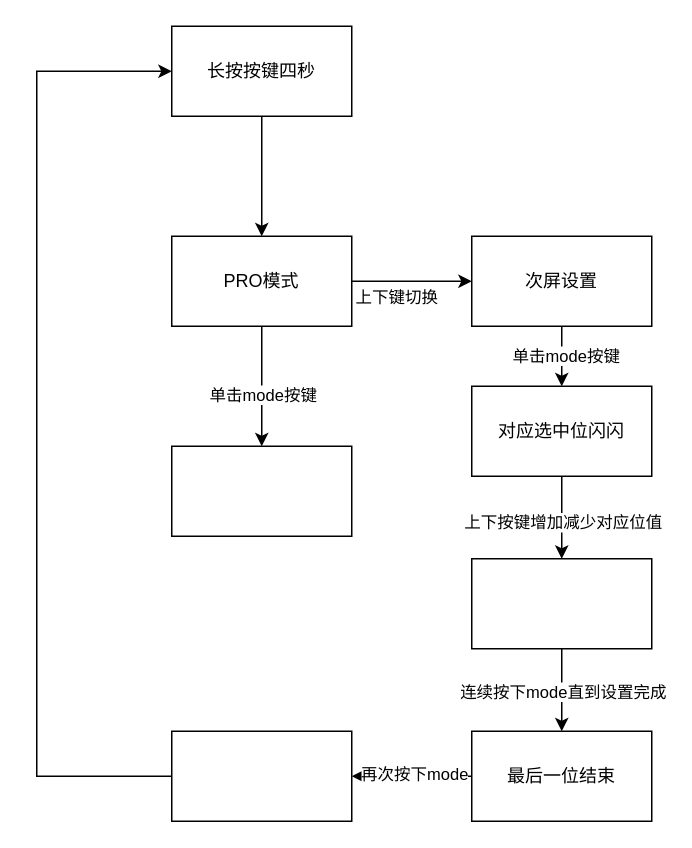
The diagram is 692 pixels wide and 848 high, and some of its shapes have lost their labels. Here are the shapes that lost their labels. From the top down, the centre of each, then its label:
At pixel 261 490: "切换下一个设置页".
At pixel 561 603: "改变次屏显示".
At pixel 261 775: "RUN模式".
